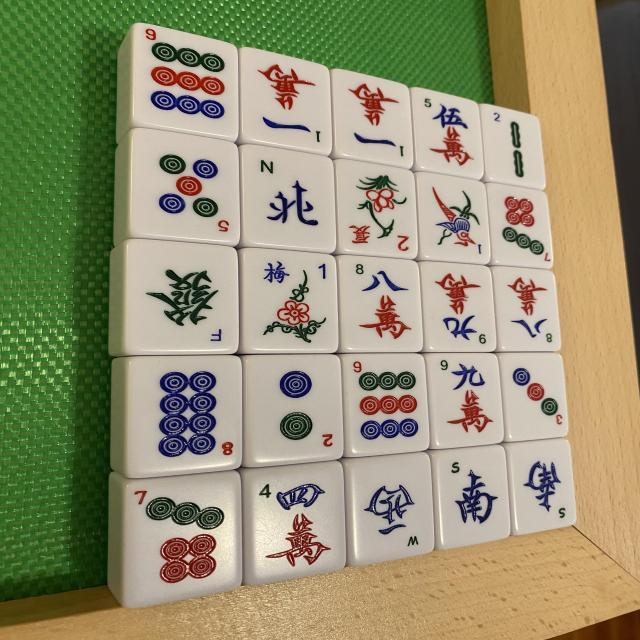bf1: (253, 253, 330, 347)
bs2: (344, 167, 416, 254)
hdg: (128, 239, 242, 357)
hwn: (242, 160, 334, 240)
hws: (436, 450, 511, 544), (522, 448, 574, 522)
hww: (349, 456, 436, 568)
sb1: (424, 178, 486, 258)
sb2: (482, 105, 544, 181)
sc1: (248, 54, 329, 144), (338, 74, 411, 160)
sc4: (252, 475, 342, 575)
sc5: (413, 92, 482, 169)
sc8: (342, 256, 425, 355), (494, 269, 559, 354)
sc9: (426, 357, 499, 452), (422, 260, 494, 350)
sd2: (254, 360, 336, 452)
sd3: (502, 353, 567, 442)
sd5: (126, 124, 236, 242)
sd7: (120, 474, 240, 608), (490, 189, 552, 270)
sd8: (130, 357, 244, 478)
sd9: (136, 23, 241, 140), (343, 356, 428, 458)
